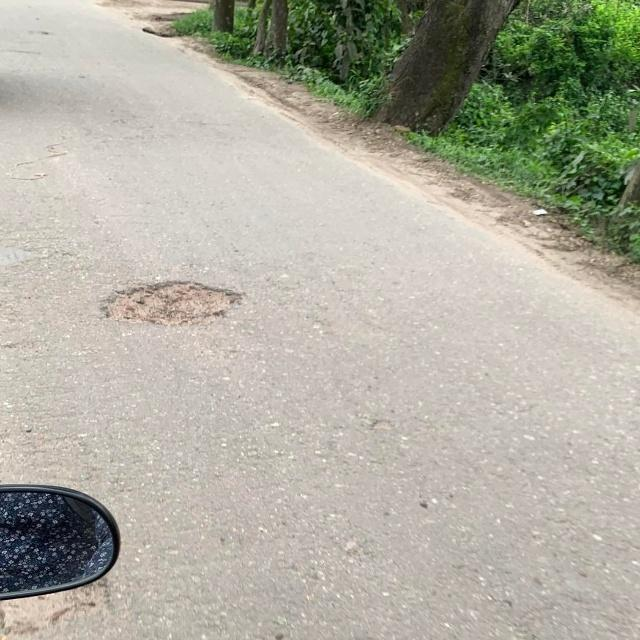Pothole: (99, 270, 221, 337)
